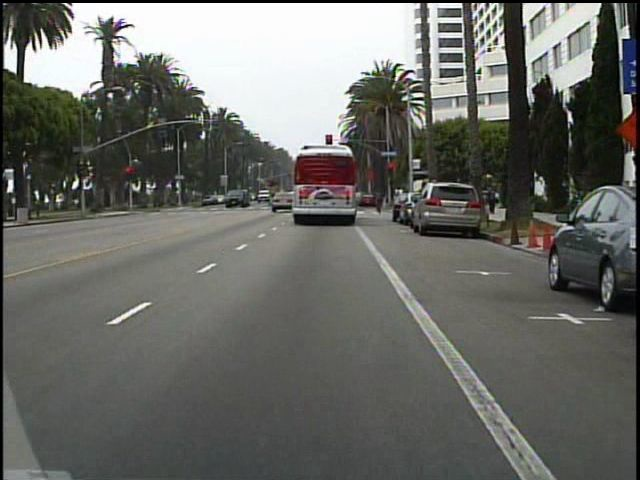person: (488, 184, 499, 218)
